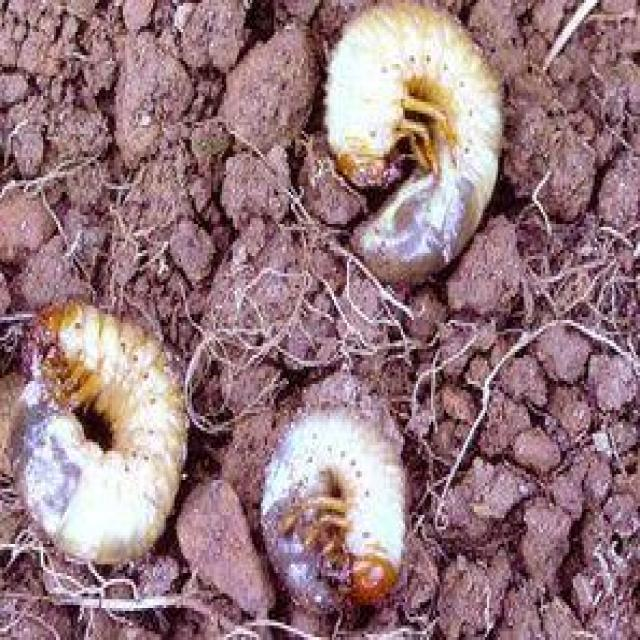Grub-Adult-: (3, 267, 198, 587), (314, 3, 528, 292), (250, 379, 420, 624)
